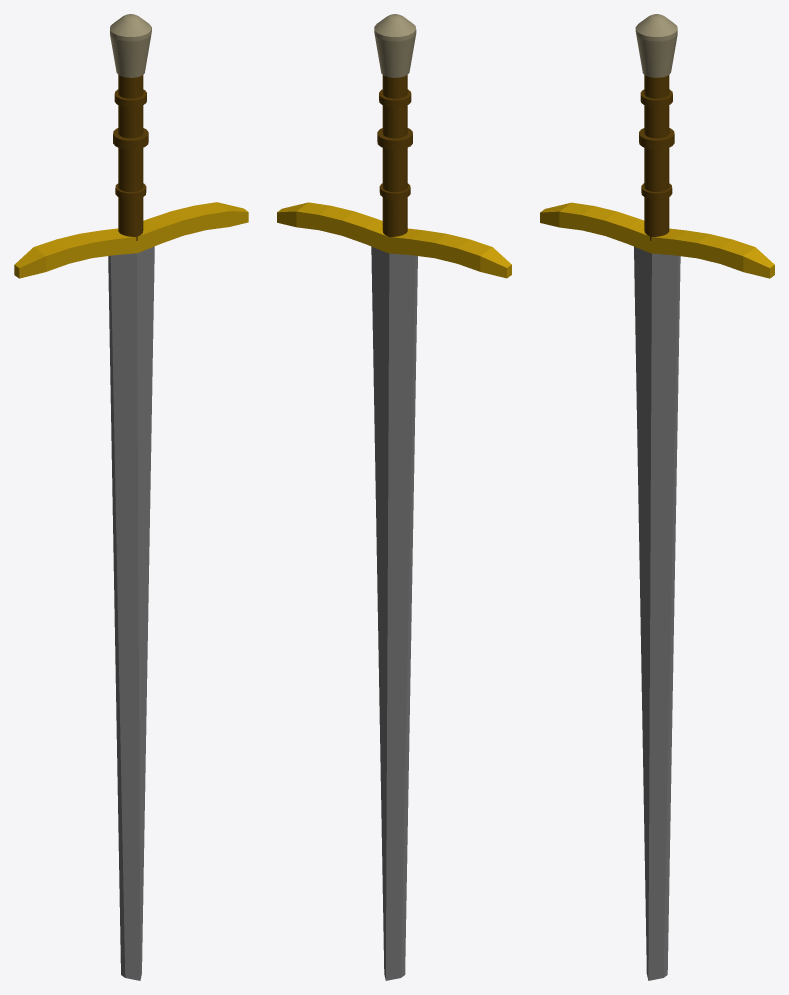
Rendered from PFE-épée.fbx.
3 views of the same model, side by side, from view 1: azimuth 30°, elevation 25°; view 2: azimuth 150°, elevation 25°; view 3: azimuth 330°, elevation 25° (orthographic).
Visible parts, largest first — view 1: Cube_cell.255; view 2: Cube_cell.255; view 3: Cube_cell.255.
Part boxes in pixels (x1,y1,x2,y2): Cube_cell.255: (14, 14, 248, 980); Cube_cell.255: (277, 14, 511, 980); Cube_cell.255: (540, 14, 774, 980).
Bounding box in the file's own units: 35.54 × 142 × 5.68.
